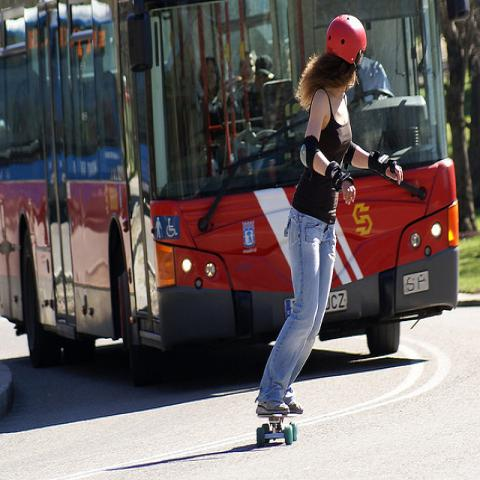bus: (2, 2, 458, 398)
